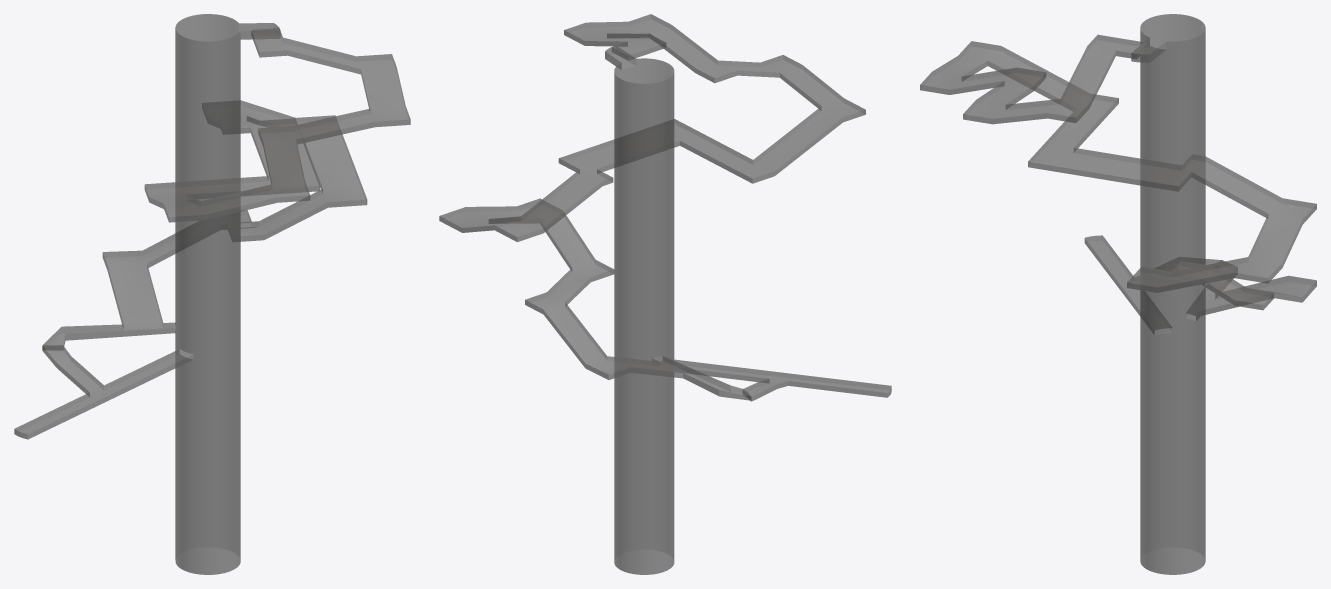
Rendered from stairs.fbx.
The picture shows the model from 3 angles, left to right: view 1: azimuth 30°, elevation 25°; view 2: azimuth 150°, elevation 25°; view 3: azimuth 270°, elevation 25°; orthographic projection. The views are drawn at different scales.
Visible parts, largest first — view 1: Final; view 2: Final; view 3: Final.
Boxes of the visible parts, <box> form: Final: <box>14,14,410,574</box>; Final: <box>439,14,891,574</box>; Final: <box>920,14,1316,574</box>.
Bounding box in the file's own units: 11256 × 14200 × 9576.
